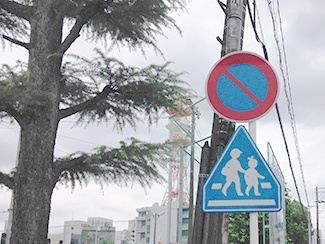Prohibition_sign: (197, 41, 271, 132)
